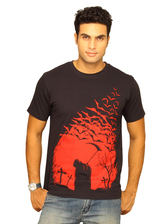clothoes: (31, 62, 147, 200)
